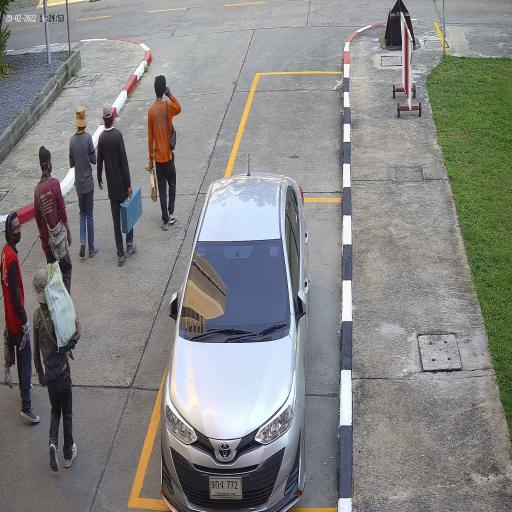car: (159, 171, 308, 512)
